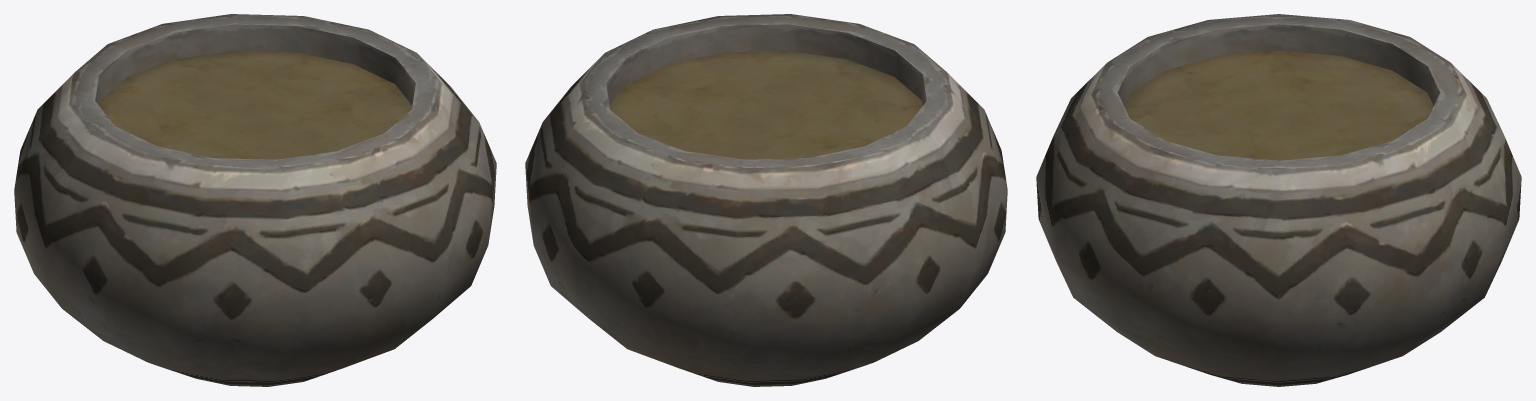
File: Homeworld_General_Common_Thing_Prop_Irodori_Miniascape_03_Vo.fbx
3 views of the same model, side by side, from view 1: azimuth 30°, elevation 25°; view 2: azimuth 150°, elevation 25°; view 3: azimuth 270°, elevation 25° (orthographic).
Visible parts, largest first — view 1: Homeworld_General_Common_Thing_Prop_Irodori_Miniascape_03_Vo; view 2: Homeworld_General_Common_Thing_Prop_Irodori_Miniascape_03_Vo; view 3: Homeworld_General_Common_Thing_Prop_Irodori_Miniascape_03_Vo.
Boxes of the visible parts, left/top/right/bottom form: Homeworld_General_Common_Thing_Prop_Irodori_Miniascape_03_Vo: left=14, top=14, right=496, bottom=386; Homeworld_General_Common_Thing_Prop_Irodori_Miniascape_03_Vo: left=525, top=14, right=1007, bottom=386; Homeworld_General_Common_Thing_Prop_Irodori_Miniascape_03_Vo: left=1036, top=14, right=1521, bottom=386.
Size of the model in its own units: 1.05 by 0.6074 by 1.05.
